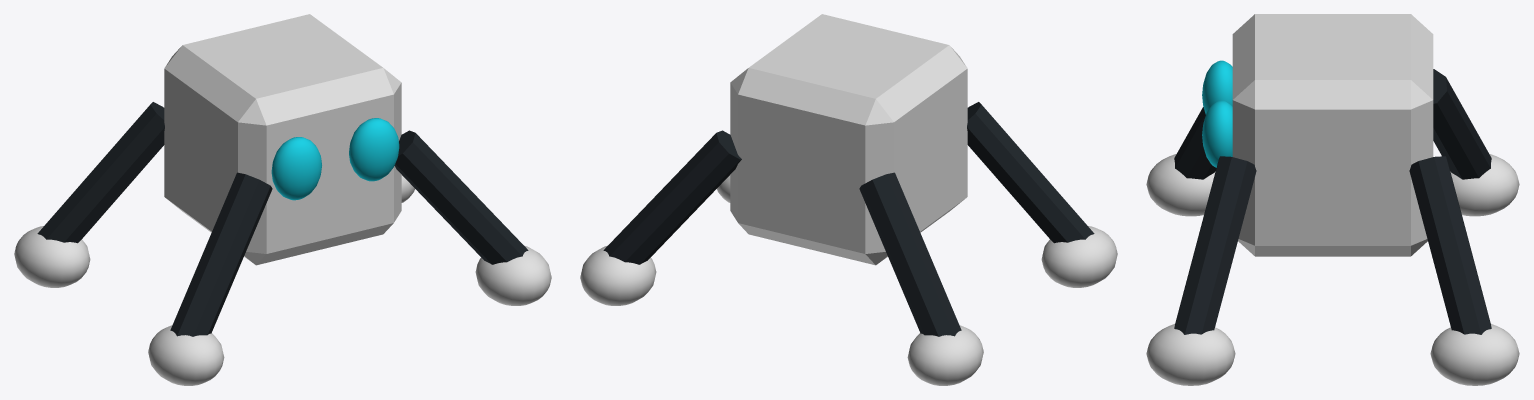
The model's file is enemy-walker.glb.
The picture shows the model from 3 angles, left to right: view 1: azimuth 30°, elevation 25°; view 2: azimuth 150°, elevation 25°; view 3: azimuth 270°, elevation 25°; orthographic projection. The views are drawn at different scales.
Visible parts, largest first — view 1: enemy-walker; view 2: enemy-walker; view 3: enemy-walker.
Part boxes in pixels (x1,y1,x2,y2): enemy-walker: (14,14,551,385); enemy-walker: (580,14,1117,385); enemy-walker: (1146,14,1519,385).
Size of the model in its own units: 0.86 by 0.495 by 0.67.
